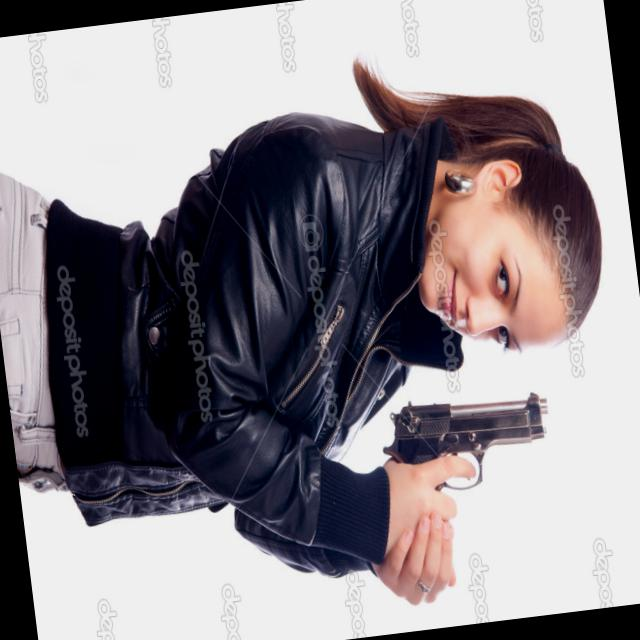handgun: (382, 384, 567, 587)
